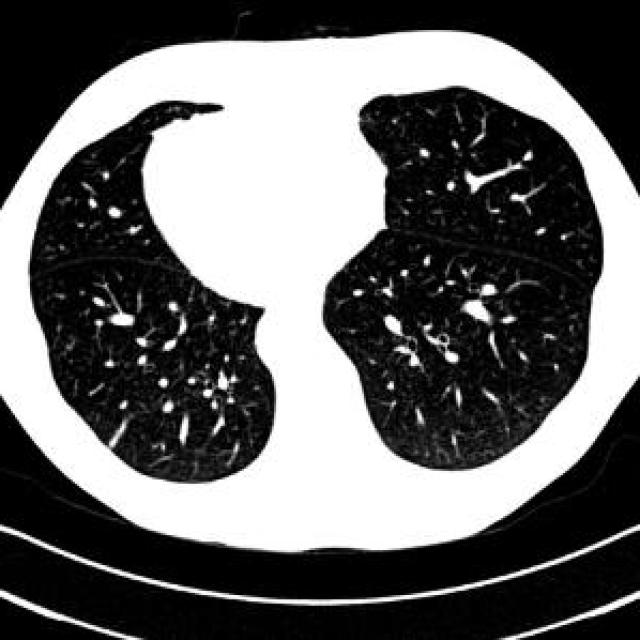Tumor: (524, 150, 533, 158)
